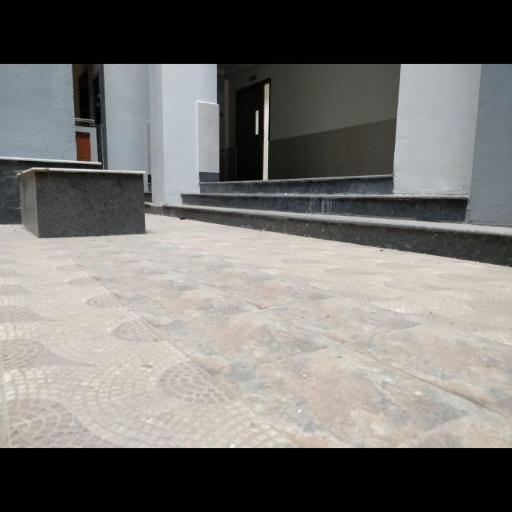stairs: (146, 175, 511, 265)
